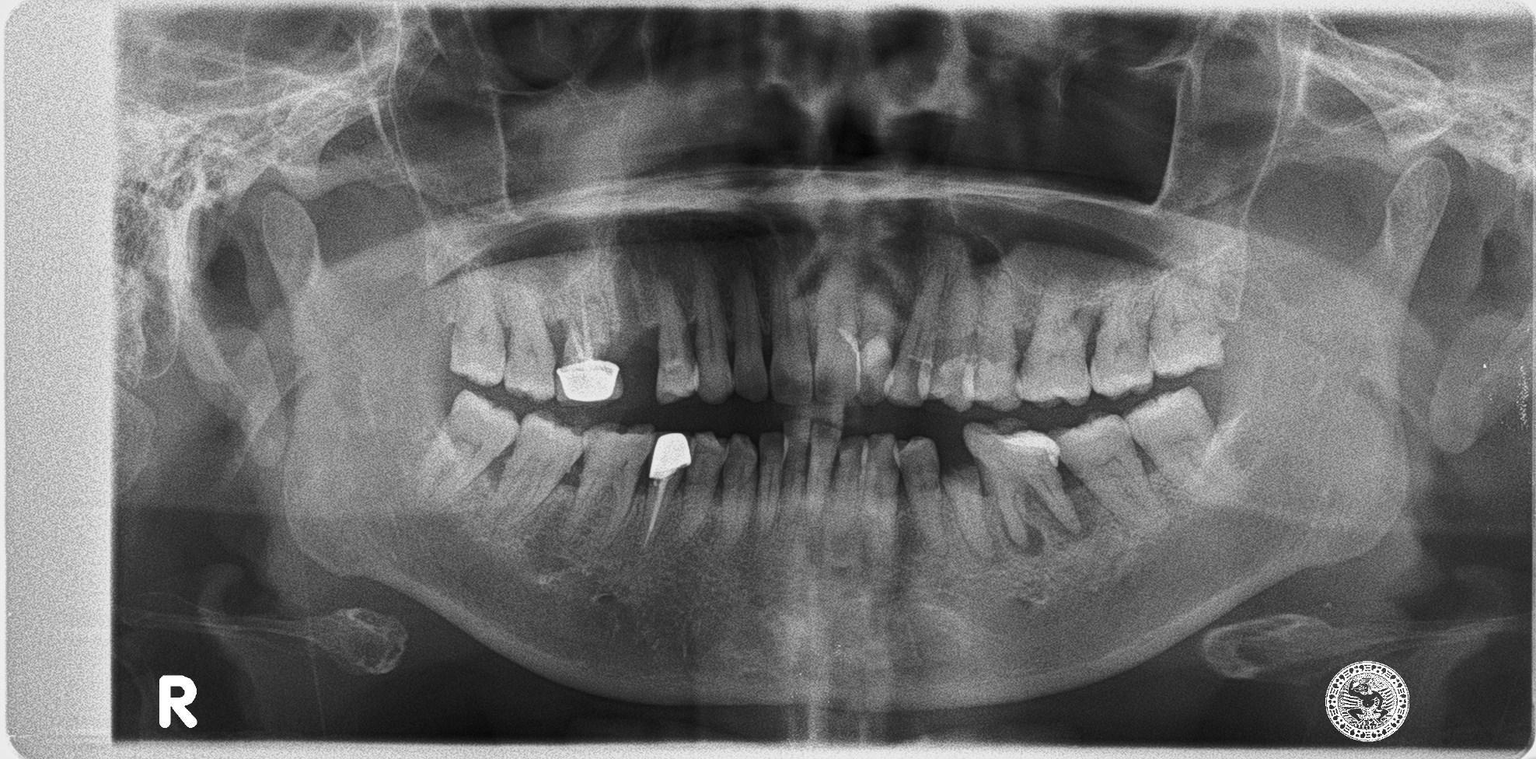Individual Tooth: (963, 419, 1079, 549), (1124, 387, 1238, 505), (1055, 414, 1161, 529), (561, 428, 656, 553), (421, 390, 519, 496), (493, 414, 584, 520), (1016, 274, 1088, 404), (961, 258, 1019, 411), (884, 264, 944, 404), (1149, 269, 1224, 377), (553, 287, 620, 403), (1090, 278, 1154, 397), (929, 260, 978, 411), (812, 268, 862, 407), (889, 436, 944, 551), (771, 256, 812, 407), (450, 271, 504, 385), (502, 290, 557, 400), (694, 262, 733, 402), (644, 432, 691, 546), (730, 266, 769, 400), (861, 434, 899, 569), (656, 287, 699, 402), (680, 434, 728, 535), (825, 437, 866, 543), (718, 434, 757, 544), (944, 467, 993, 554), (857, 293, 895, 403), (777, 417, 812, 528), (804, 419, 840, 521), (754, 432, 786, 533)
